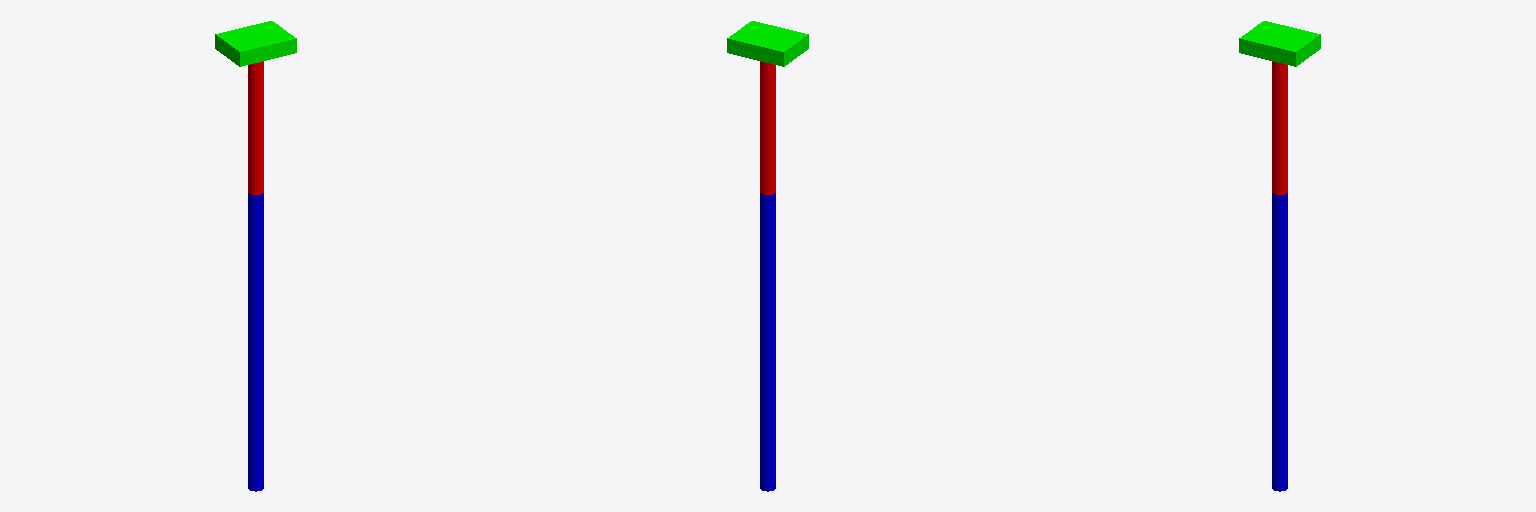
robot.urdf — robot:
<?xml version="1.0" encoding="utf-8"?>
<robot>
  <link name="base_link">
 <visual>
    <geometry>
    <box size="0.4 0.3 0.1" />
    </geometry>
    <material name="green">
    <color rgba="0 1 0 1" />
    </material>
</visual>
<collision name="base_link_collision">
    <geometry>
    <box size="0.4 0.3 0.1" />
    </geometry>
</collision>
</link>

  <link name="link1">
    <inertial>
      <origin xyz="0.0 0.0 -0.5" rpy="0.0 0.0 0.0"/>
      <mass value="1.0"/>
      <inertia ixx="-0.25" ixy="0.0" ixz="0.0" iyy="0.08300000000000002" iyz="0.0" izz="0.0"/>
    </inertial><visual>
<origin xyz="0 0 -0.5" rpy="0 0 0" />
<geometry>
    <cylinder length="1.0" radius="0.05" />
</geometry>
<material name="red">
    <color rgba="1 0 0 1" />
</material>
</visual>
<collision name="link1_collision">
<origin xyz="0 0 -0.5" rpy="0 0 0" />
<geometry>
    <cylinder length="1.0" radius="0.05" />
</geometry>
</collision>

  </link>
  <link name="link2">
    <inertial>
      <origin xyz="0.0 0.0 -1.0" rpy="0.0 0.0 0.0"/>
      <mass value="1.0"/>
      <inertia ixx="-1.0" ixy="0.0" ixz="0.0" iyy="0.33000000000000007" iyz="0.0" izz="0.0"/>
    </inertial><visual>
<origin xyz="0 0 -1.0" rpy="0 0 0" />
<geometry>
    <cylinder length="2.0" radius="0.05" />
</geometry>
<material name="blue">
    <color rgba="0 0 1 1" />
</material>
</visual>
<collision name="link2_collision">
<origin xyz="0 0 -1.0" rpy="0 0 0" />
<geometry>
    <cylinder length="2.0" radius="0.05" />
</geometry>
</collision>

  </link>
  <joint name="joint1" type="continuous">
    <parent link="base_link"/>
    <child link="link1"/>
    <origin xyz="0.0 0.0 0.0" rpy="0.0 -0.0 0.0"/>
    <axis xyz="0.0 1.0 0.0"/>
    <limit effort="Inf" velocity="Inf"/>
  </joint>
  <joint name="joint2" type="continuous">
    <parent link="link1"/>
    <child link="link2"/>
    <origin xyz="0.0 0.0 -1.0" rpy="0.0 -0.0 0.0"/>
    <axis xyz="0.0 1.0 0.0"/>
    <limit effort="Inf" velocity="Inf"/>
  </joint>
</robot>

--- Facts derived from the render (not from the file) ---
The picture shows the robot from 3 angles, left to right: view 1: azimuth 30°, elevation 25°; view 2: azimuth 150°, elevation 25°; view 3: azimuth 330°, elevation 25°; orthographic projection.
Robot: robot — 3 links, 2 joints (2 continuous); root link base_link; default pose: every joint at zero.
Visible links, largest first — view 1: link2, base_link, link1; view 2: link2, base_link, link1; view 3: link2, base_link, link1.
Boxes of the visible links, box(x1,y1,x2,y2) form: link2: box(248, 193, 263, 491); base_link: box(215, 21, 296, 66); link1: box(248, 61, 263, 194); link2: box(760, 193, 775, 491); base_link: box(727, 21, 808, 66); link1: box(760, 61, 775, 194); link2: box(1272, 193, 1287, 491); base_link: box(1239, 21, 1320, 66); link1: box(1272, 61, 1287, 194).
Bounding box of the posed robot: 0.4 × 0.3 × 3.05 m (x, y, z).
Geometry: primitives only (box / cylinder / sphere), no mesh files.
